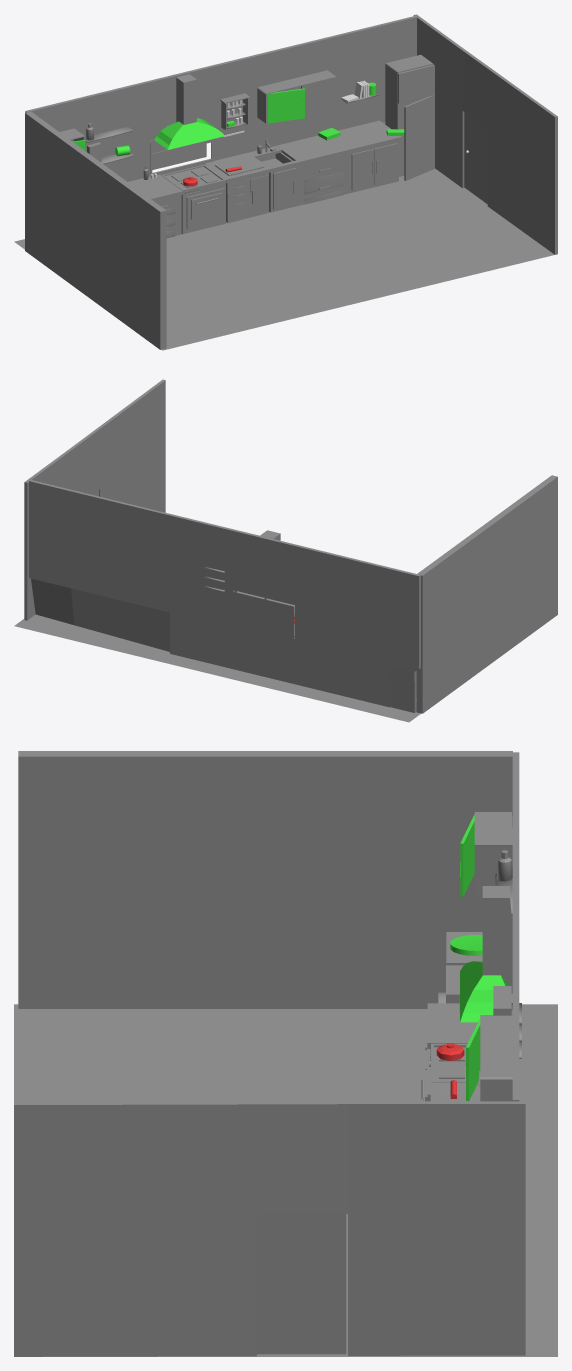
Rendered from Escenario_00.FBX.
3 renders of one model, top to bottom at view 1: azimuth 30°, elevation 25°; view 2: azimuth 150°, elevation 25°; view 3: azimuth 270°, elevation 25°, orthographic. The views are drawn at different scales.
Visible parts, largest first — view 1: Object010, Plane009, Box056, Object012, Object011, Box115, Box022, Box067, pCube27, Box081, pCube063, Box013 (+14 smaller); view 2: Object010, Box056, Plane009, Plane001; view 3: Object010, Box056, Plane009, Box115, Box013, pCube046, Box065, pCube27, Object012, pCube063, pCube078.
Part boxes in pixels (bbox=[...]): Object010: bbox=[25, 14, 557, 254]; Plane009: bbox=[14, 168, 554, 350]; Box056: bbox=[25, 111, 166, 349]; Object012: bbox=[128, 120, 401, 201]; Object011: bbox=[404, 95, 434, 180]; Box115: bbox=[464, 112, 487, 203]; Box022: bbox=[385, 54, 433, 176]; Box067: bbox=[161, 164, 225, 234]; pCube27: bbox=[154, 118, 224, 149]; Box081: bbox=[206, 165, 268, 222]; pCube063: bbox=[267, 88, 304, 123]; Box013: bbox=[257, 70, 336, 124]; Object010: bbox=[24, 379, 420, 712]; Box056: bbox=[416, 475, 557, 713]; Plane009: bbox=[14, 591, 420, 722]; Plane001: bbox=[228, 591, 294, 644]; Object010: bbox=[14, 752, 525, 1356]; Box056: bbox=[18, 751, 512, 1008]; Plane009: bbox=[14, 1004, 557, 1356]; Box115: bbox=[257, 1212, 346, 1354]; Box013: bbox=[480, 1015, 512, 1101]; pCube046: bbox=[482, 886, 512, 993]; Box065: bbox=[474, 811, 512, 901]; pCube27: bbox=[460, 961, 508, 1022]; Object012: bbox=[427, 1003, 477, 1048]; pCube063: bbox=[465, 1018, 480, 1101]; pCube078: bbox=[460, 814, 474, 896].
Size of the model in its own units: 64.88 by 23.02 by 42.19.
